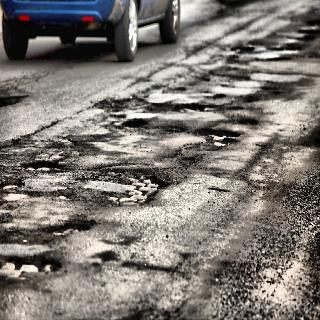pothole: (46, 215, 90, 238), (198, 126, 240, 150), (21, 155, 61, 175), (123, 114, 147, 134), (182, 101, 207, 114), (230, 44, 257, 53), (0, 181, 23, 191), (240, 116, 257, 127), (226, 104, 245, 111)
